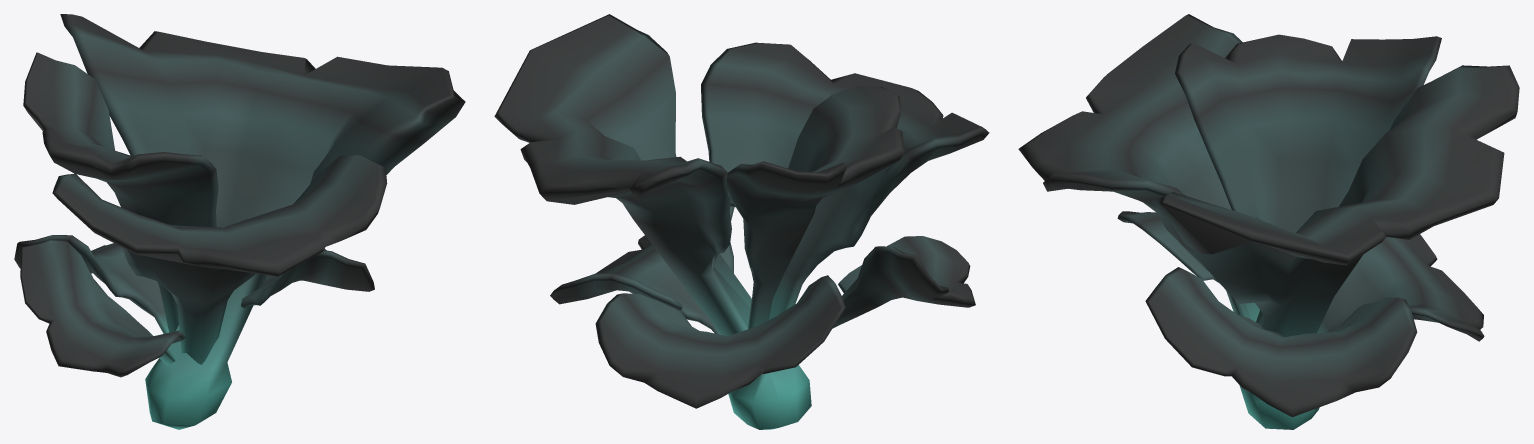
File: plants-mushrooms-ruffled-fungus_v2.glb
3 renders of one model, left to right at view 1: azimuth 30°, elevation 25°; view 2: azimuth 150°, elevation 25°; view 3: azimuth 270°, elevation 25°, orthographic. The views are drawn at different scales.
Parts seen in each view (by area): view 1: Ruffled Fungus_v2; view 2: Ruffled Fungus_v2; view 3: Ruffled Fungus_v2.
Boxes of the visible parts, <box> form: Ruffled Fungus_v2: <box>14,14,465,429</box>; Ruffled Fungus_v2: <box>494,14,989,429</box>; Ruffled Fungus_v2: <box>1018,14,1519,429</box>.
Size of the model in its own units: 0.2 by 0.1527 by 0.1932.
